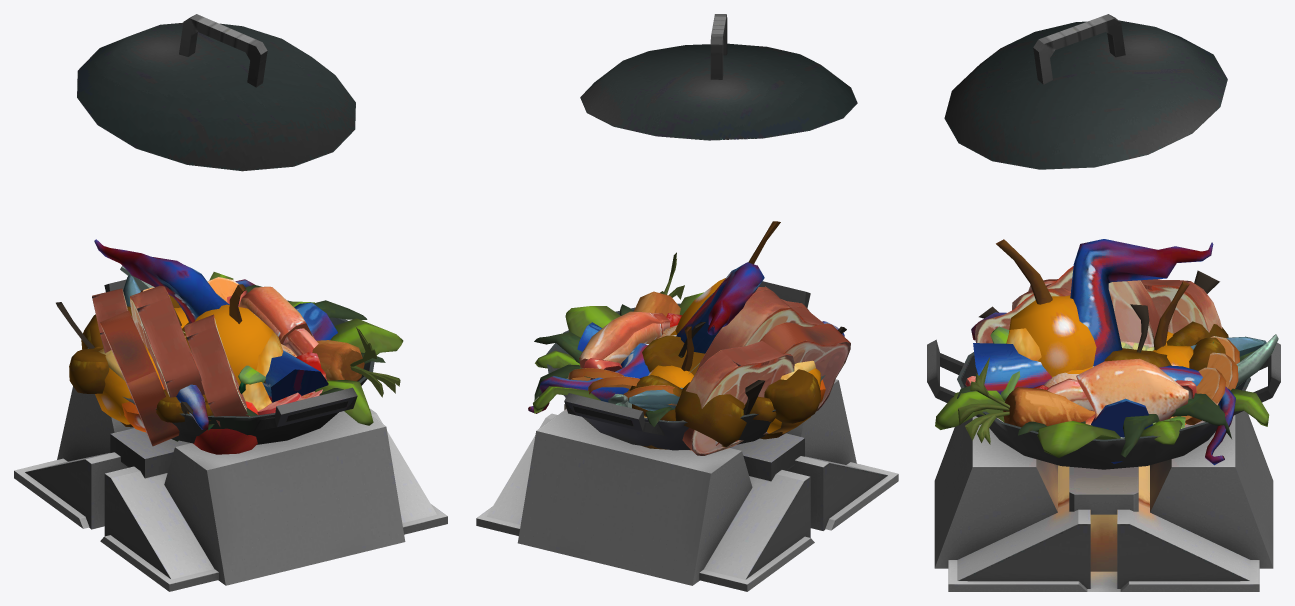
Rendered from trap_171_trpot.fbx.
3 views of the same model, side by side, from view 1: azimuth 30°, elevation 25°; view 2: azimuth 150°, elevation 25°; view 3: azimuth 270°, elevation 25° (orthographic). The views are drawn at different scales.
Visible parts, largest first — view 1: trap_171_trpot, trap_171_trpotcover, trap_173_slfrut, trap_175_frfrut, trap_177_tentcl, trap_174_smfrut, trap_meat, trap_carrot, trap_tomato, trap_176_frutwn; view 2: trap_171_trpot, trap_171_trpotcover, trap_173_slfrut, trap_174_smfrut, trap_175_frfrut, trap_177_tentcl, trap_meat, trap_carrot, trap_crab; view 3: trap_171_trpot, trap_171_trpotcover, trap_173_slfrut, trap_177_tentcl, trap_175_frfrut, trap_174_smfrut, trap_carrot, trap_crab, trap_176_frutwn.
Part boxes in pixels (box(x1,y1,x2,y2)): trap_171_trpot: box(14, 265, 447, 591); trap_171_trpotcover: box(77, 14, 355, 171); trap_173_slfrut: box(92, 277, 322, 426); trap_175_frfrut: box(95, 272, 403, 425); trap_177_tentcl: box(94, 239, 337, 429); trap_174_smfrut: box(56, 285, 385, 441); trap_meat: box(100, 310, 179, 446); trap_carrot: box(312, 327, 400, 397); trap_tomato: box(193, 382, 258, 454); trap_176_frutwn: box(121, 365, 265, 432); trap_171_trpot: box(476, 281, 898, 591); trap_171_trpotcover: box(580, 14, 857, 140); trap_173_slfrut: box(566, 286, 824, 455); trap_174_smfrut: box(534, 304, 846, 446); trap_175_frfrut: box(533, 221, 821, 449); trap_177_tentcl: box(528, 262, 844, 413); trap_meat: box(759, 322, 850, 411); trap_carrot: box(634, 252, 684, 316); trap_crab: box(608, 387, 682, 411); trap_171_trpot: box(927, 339, 1280, 591); trap_171_trpotcover: box(944, 14, 1227, 169); trap_173_slfrut: box(965, 266, 1239, 438); trap_177_tentcl: box(971, 239, 1235, 465); trap_175_frfrut: box(935, 239, 1269, 457); trap_174_smfrut: box(957, 270, 1255, 457); trap_carrot: box(958, 357, 1095, 444); trap_crab: box(1190, 334, 1278, 387); trap_176_frutwn: box(990, 326, 1186, 424).
Size of the model in its own units: 1.01 by 1.6 by 1.04.
Materials: 1 (1 with a texture image).
